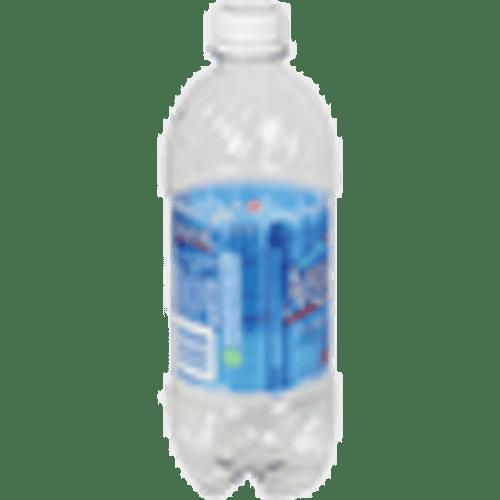bottle: (139, 0, 379, 500)
